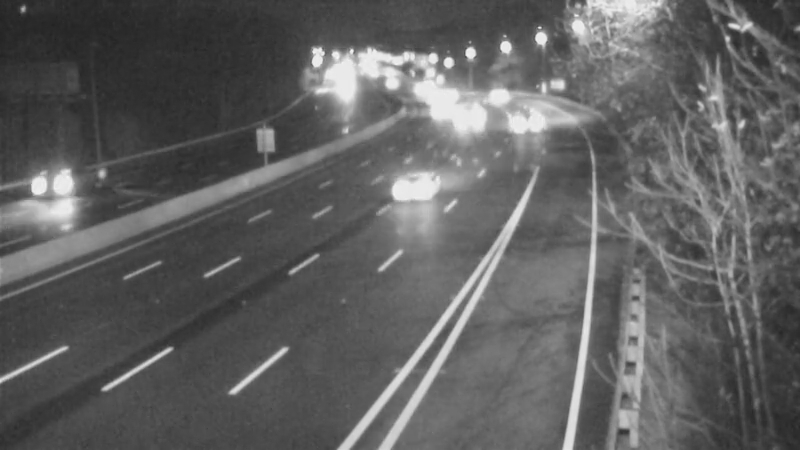vehicle: (375, 148, 455, 228), (10, 144, 90, 224), (426, 71, 476, 121), (477, 68, 527, 118), (437, 91, 487, 141), (495, 97, 545, 147)
